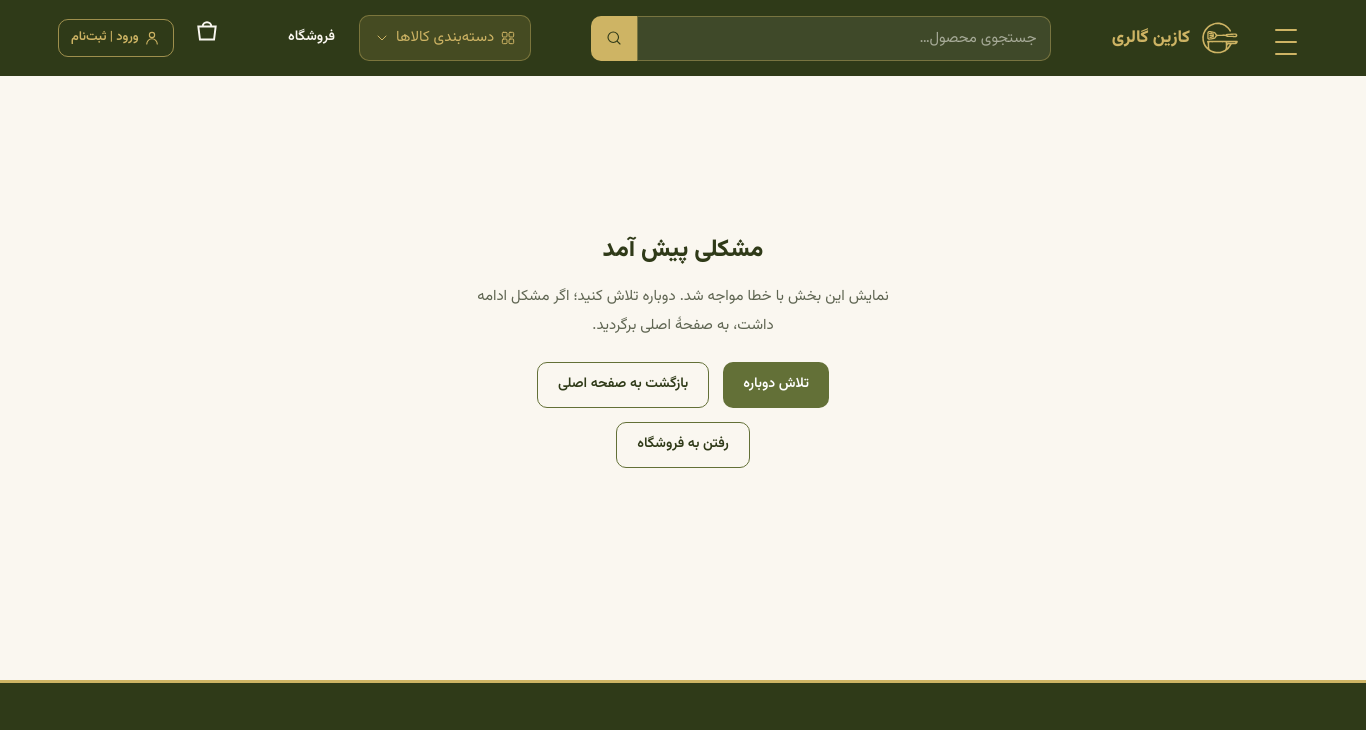
home brand navigation › keeps the logo/name usable from a route error fallback
Expected: the heading "مشکلی پیش آمد" is shown, [603, 231, 763, 269]
Click the link with aria-label "کازین گالری — صفحه اصلی".
click(1177, 38)  # box [1112, 16, 1242, 60]
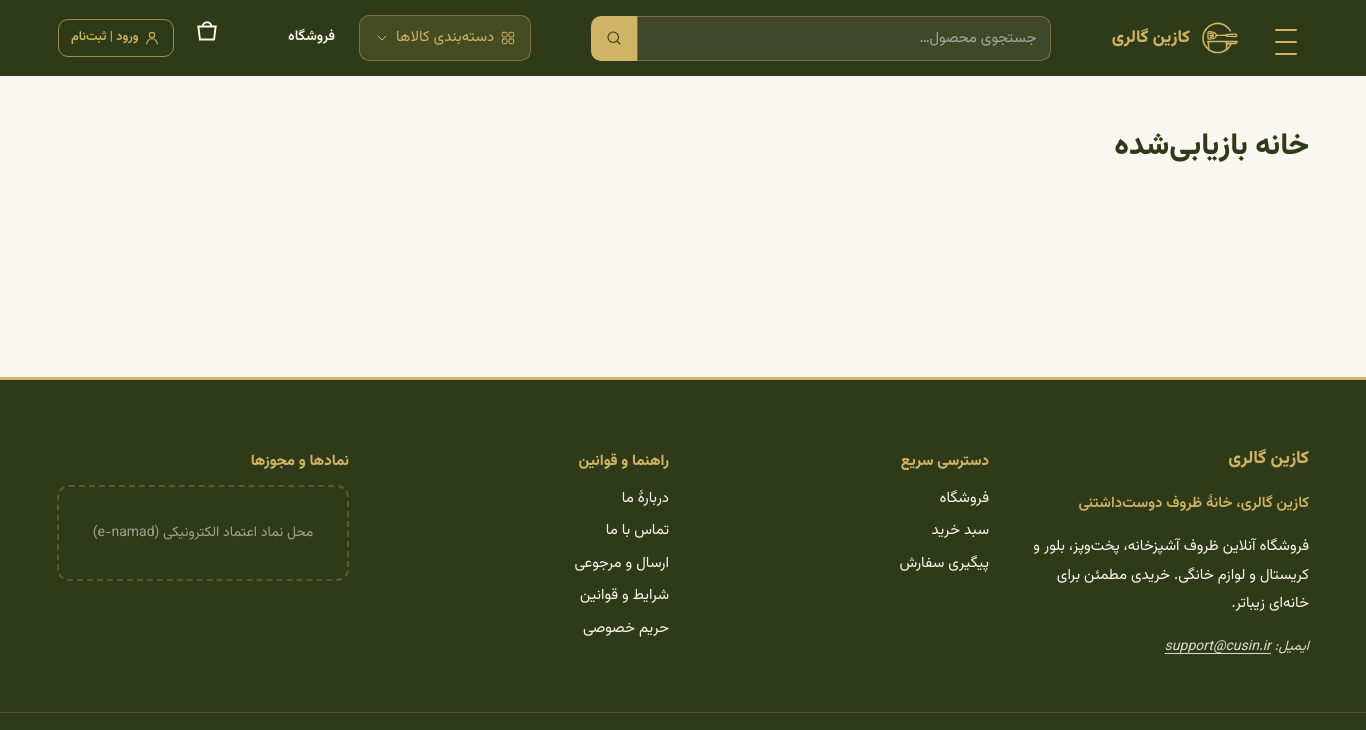
Now the heading "خانه بازیابی‌شده" is shown, box [1114, 123, 1309, 170]
